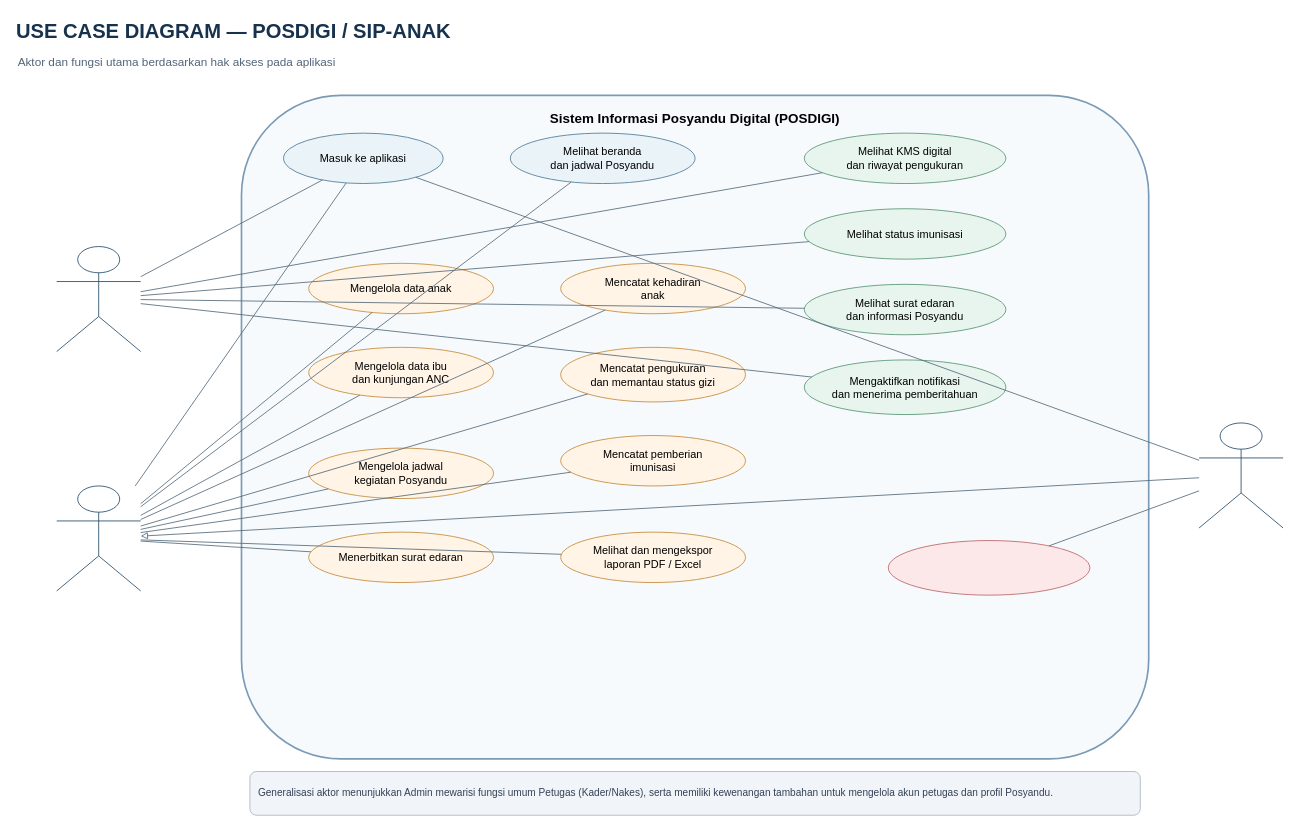
This 1298x830 diagram has some shape labels left out. The shapes that lost their labels are listed below. From the top down, each one's centre as x and y in pixels, then its label:
[98,299]: Orang Tua
[1240,475]: Admin
[98,538]: Petugas (Kader / Nakes)
[988,567]: Mengelola akun petugas dan profil Posyandu
